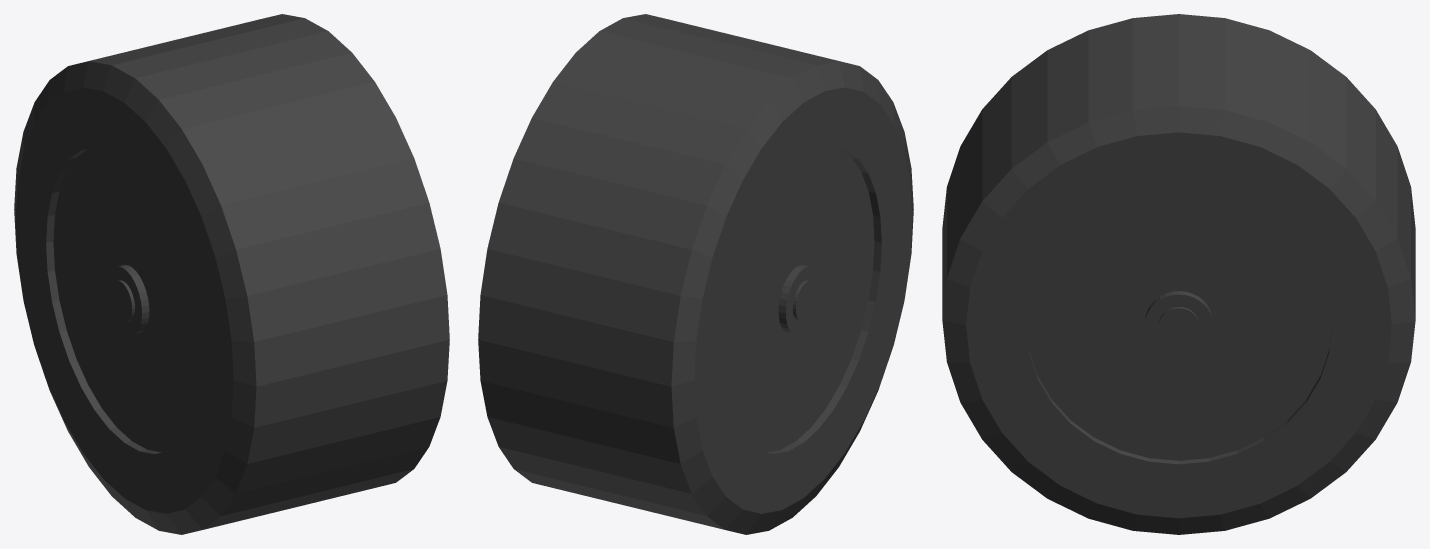
Rendered from wheel.rear.left.gltf.
3 renders of one model, left to right at view 1: azimuth 30°, elevation 25°; view 2: azimuth 150°, elevation 25°; view 3: azimuth 270°, elevation 25°, orthographic. The views are drawn at different scales.
Visible parts, largest first — view 1: wheel.rear.left; view 2: wheel.rear.left; view 3: wheel.rear.left.
Boxes of the visible parts, <box> form: wheel.rear.left: <box>14,14,449,534</box>; wheel.rear.left: <box>478,14,913,534</box>; wheel.rear.left: <box>942,14,1415,534</box>.
Size of the model in its own units: 0.4108 by 0.7838 by 0.7838.
1 material, 1 textured.
